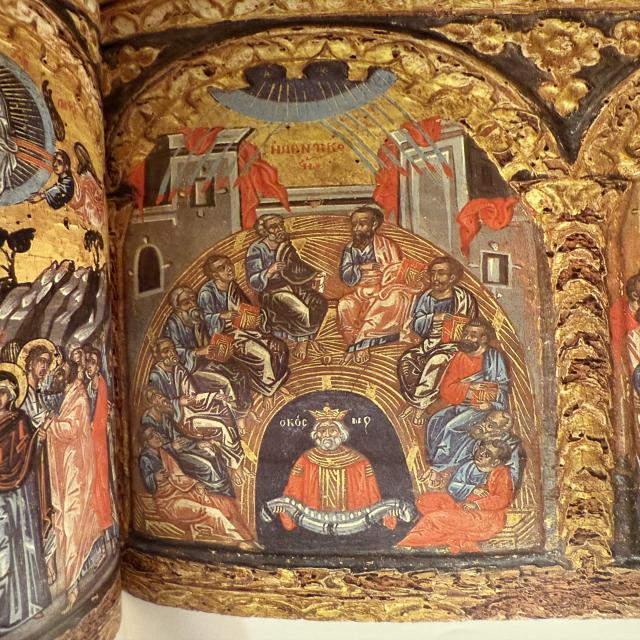crown: (304, 406, 355, 424)
